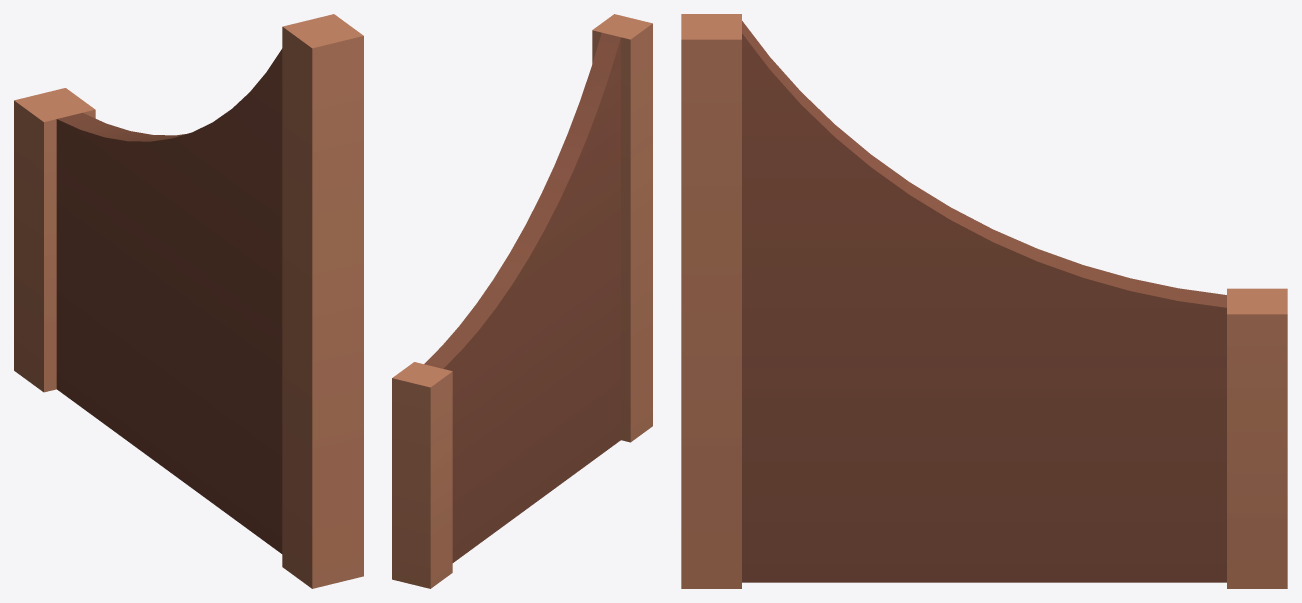
Rendered from wall-wood-slope.glb.
The picture shows the model from 3 angles, left to right: view 1: azimuth 30°, elevation 25°; view 2: azimuth 150°, elevation 25°; view 3: azimuth 270°, elevation 25°; orthographic projection. The views are drawn at different scales.
Parts seen in each view (by area): view 1: wall-wood-slope; view 2: wall-wood-slope; view 3: wall-wood-slope.
Part boxes in pixels (x1,y1,x2,y2): wall-wood-slope: (14,14,363,588); wall-wood-slope: (392,14,652,588); wall-wood-slope: (681,14,1287,588).
Size of the model in its own units: 0.1 by 1 by 1.
1 material, 1 textured.
